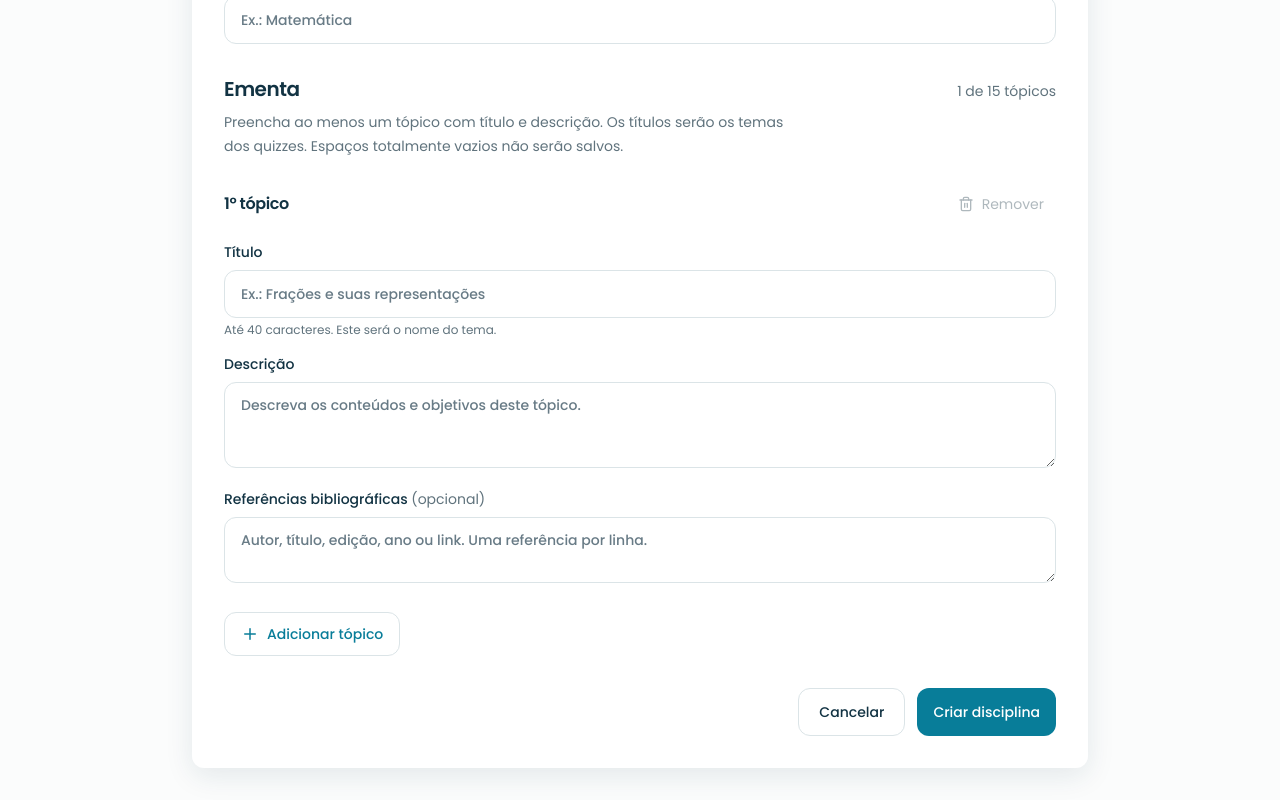
Test: mostra erros abaixo dos campos corretos mesmo após ignorar ou remover tópicos
The image size is (1280, 800).
(page scrolled)
Click the button "Adicionar tópico" at (312, 634), box [224,612,400,656]
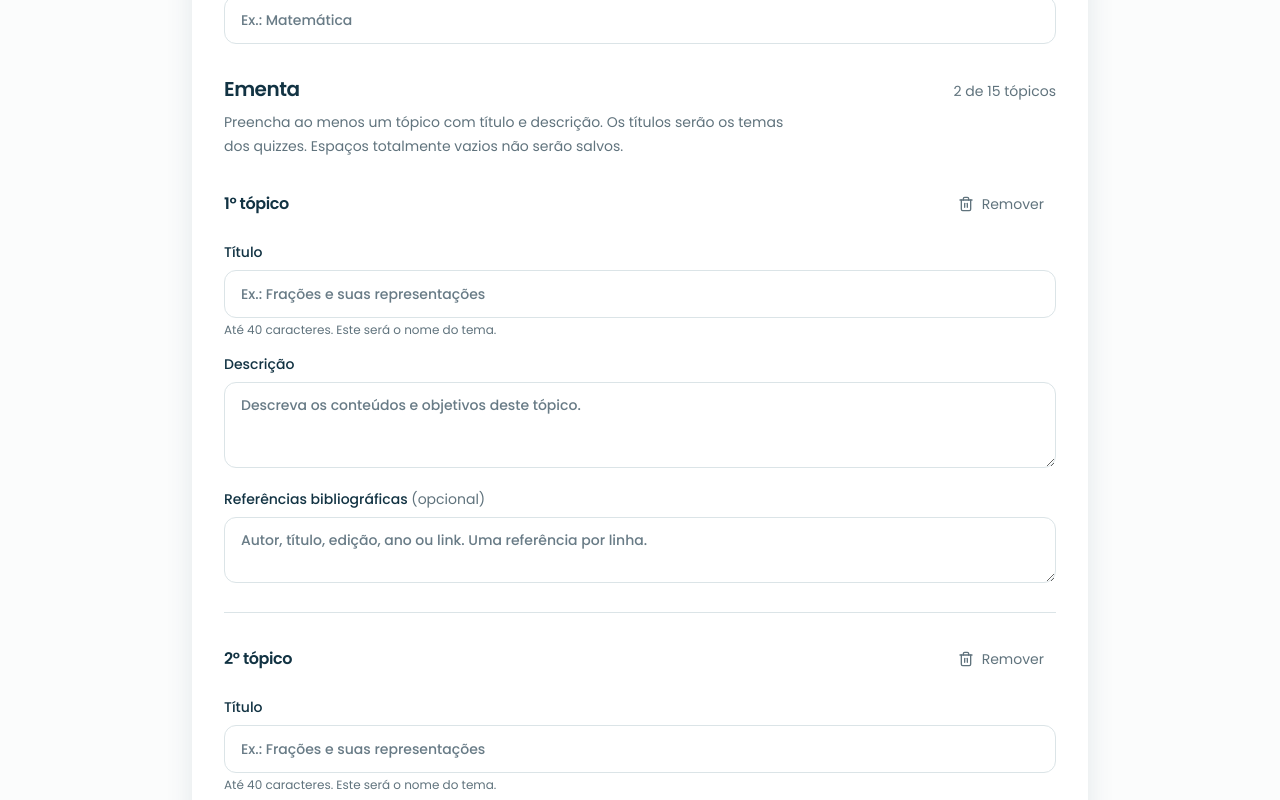
Type "123" into the 2nd field labelled "Título" at (640, 749), box [224,725,1056,773]
(page scrolled)
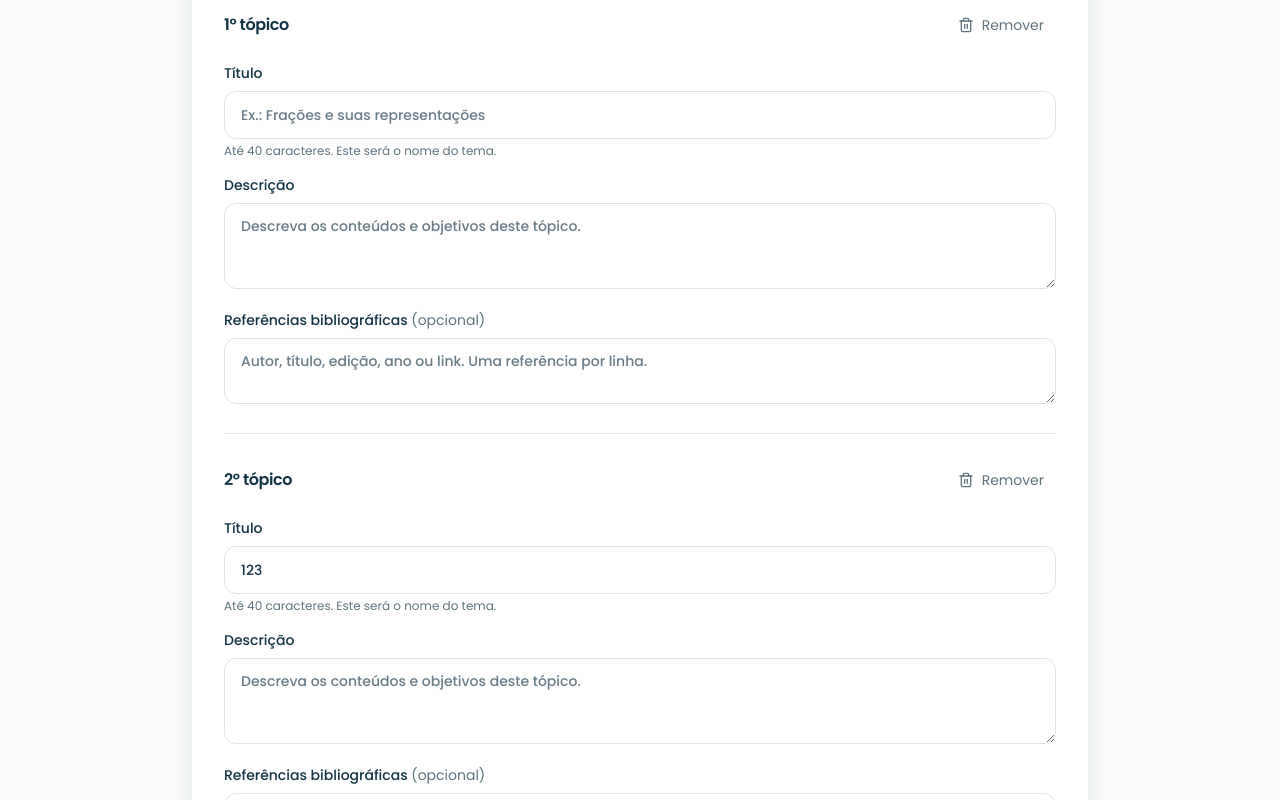
Submit the form named "Criar disciplina"
(page scrolled)
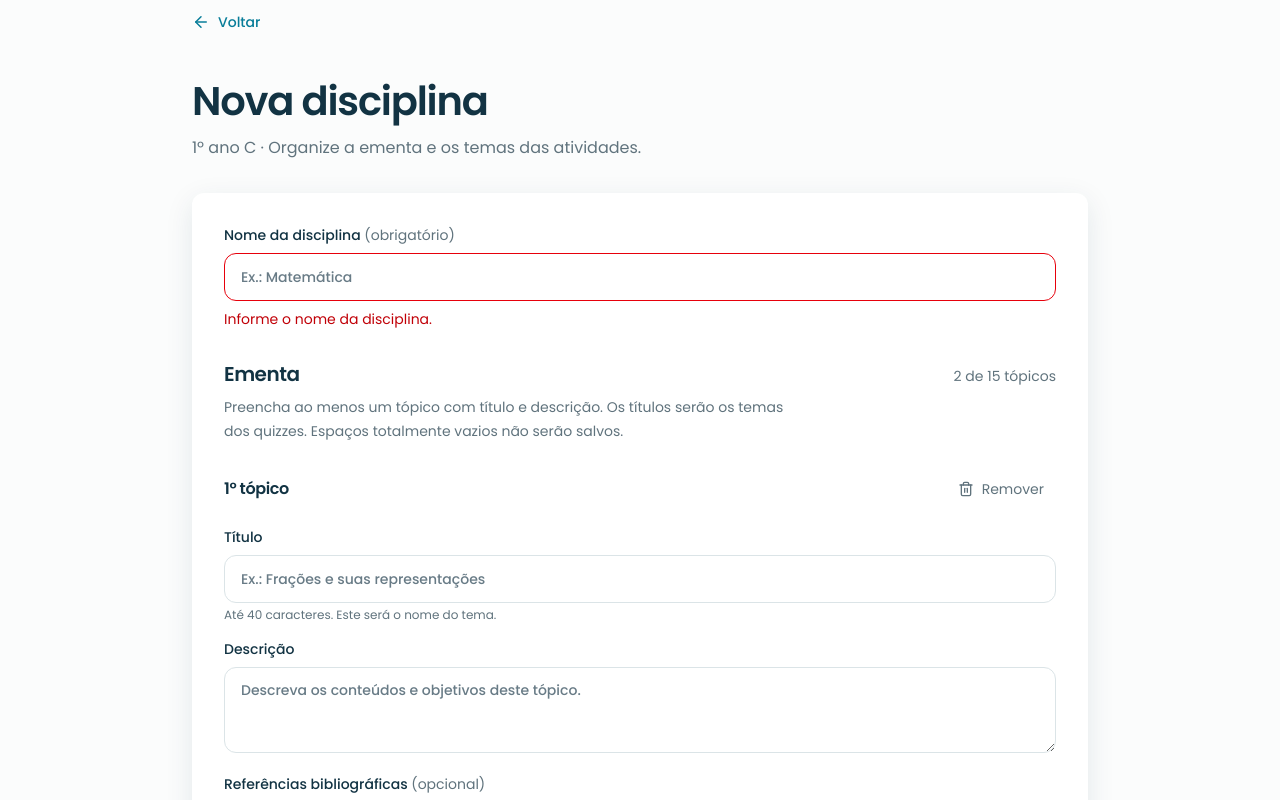
Now the field labelled "Nome da disciplina (obrigatório)" is marked as invalid
Type "Matemática" into the field labelled "Nome da disciplina (obrigatório)" at (640, 277), box [224,253,1056,301]
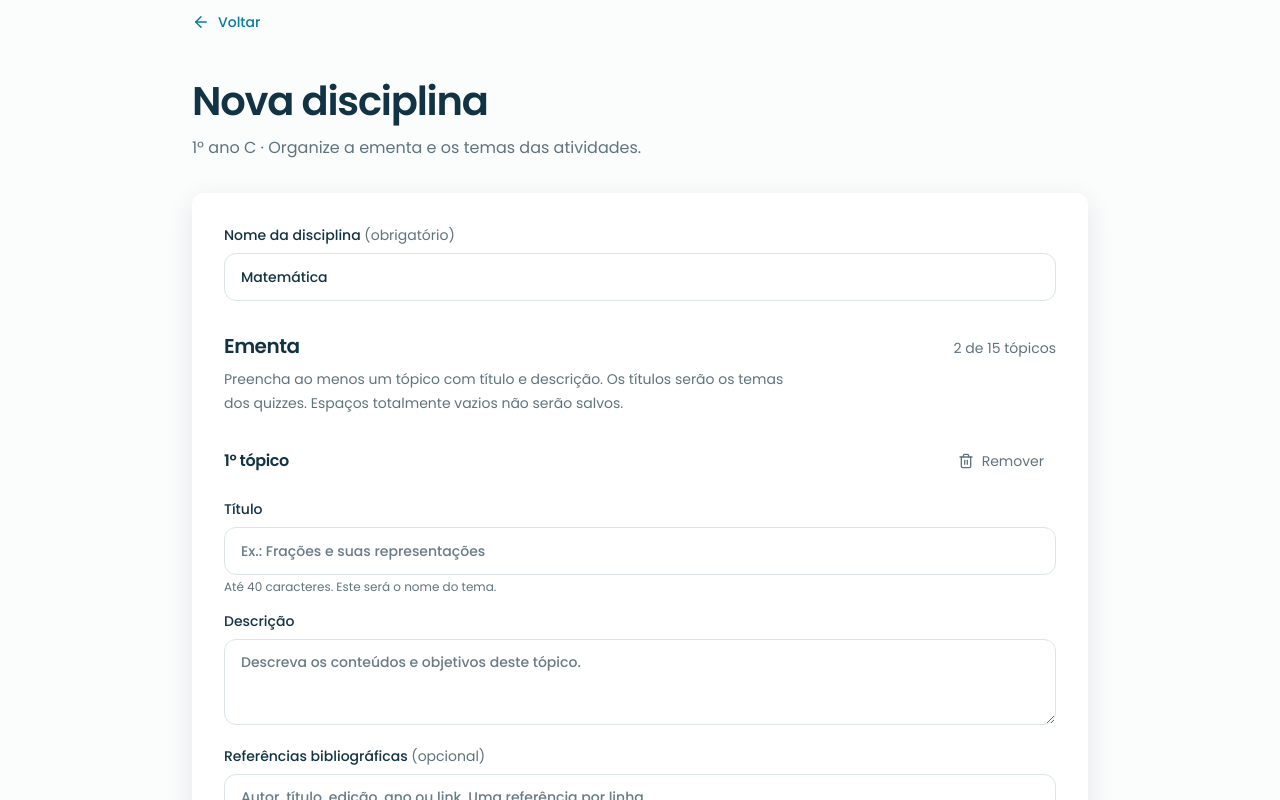
Now the field labelled "Nome da disciplina (obrigatório)" is not marked as invalid, box [224,253,1056,301]
Click the button with aria-label "Remover tópico 1" at (1001, 461), box [946,439,1056,483]
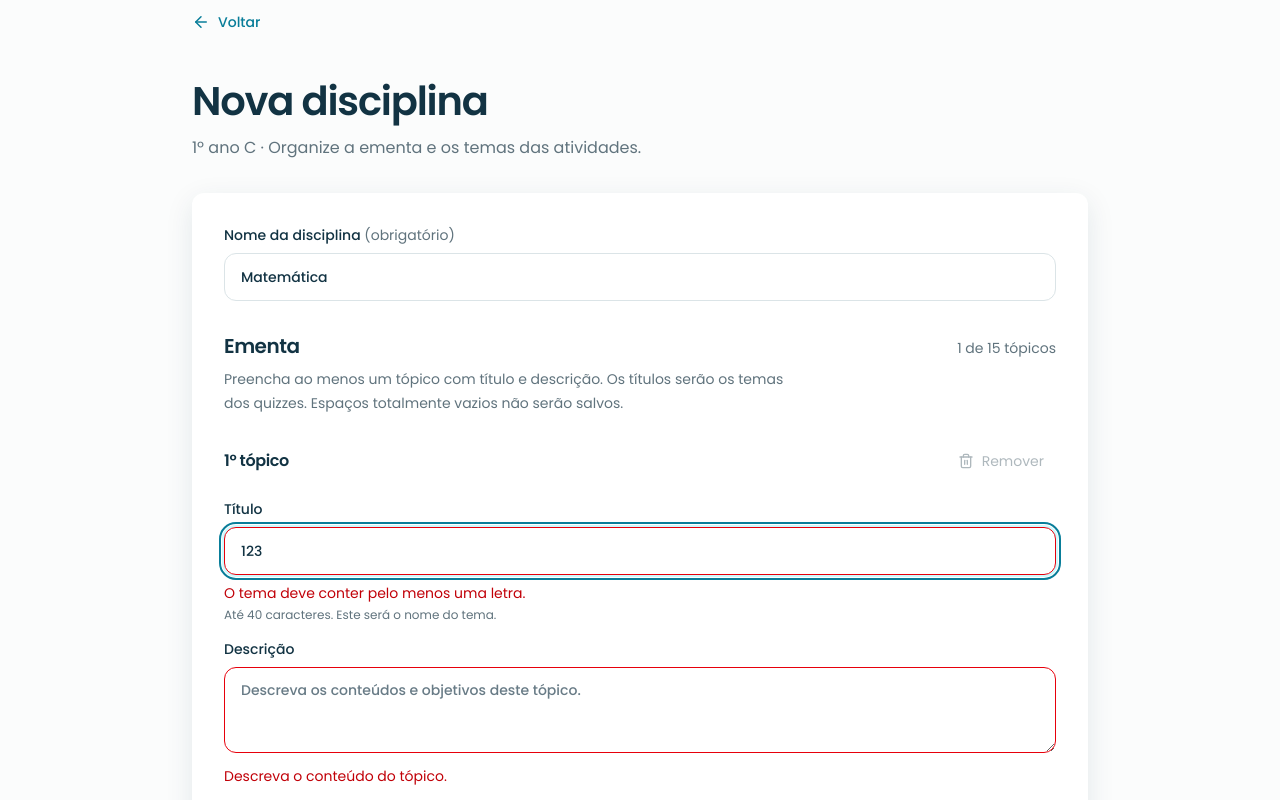
Now the field labelled "Título" is marked as invalid, box [224,527,1056,575]
